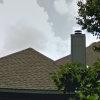Chimney: (66, 20, 91, 78)
